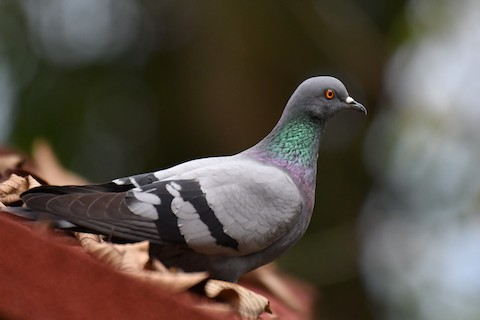pigeon: (12, 70, 371, 284)
